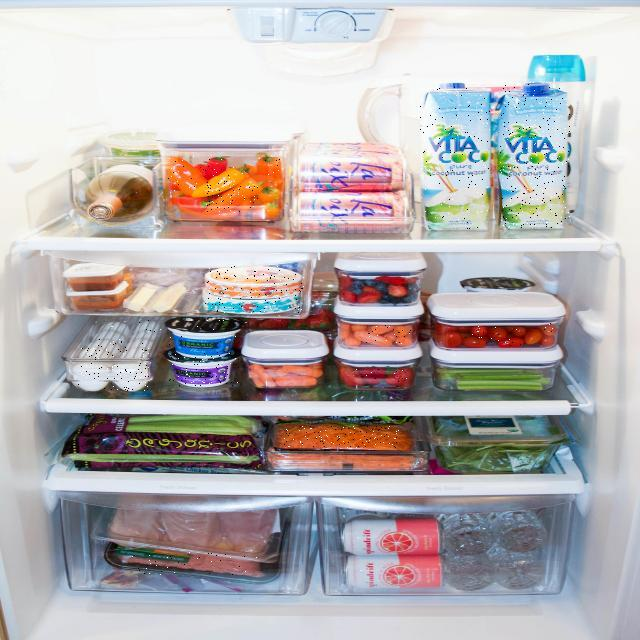carrots: (284, 426, 400, 448)
cheese: (206, 266, 305, 296), (202, 294, 304, 313)
eggs: (112, 363, 150, 391), (73, 362, 109, 390), (79, 347, 115, 360), (89, 339, 122, 352), (103, 323, 130, 334), (123, 347, 149, 358), (140, 320, 162, 332), (130, 339, 153, 346)
ground_beef: (127, 552, 259, 575)
milk: (500, 82, 570, 228), (420, 85, 490, 229)
sausage: (352, 333, 389, 347), (368, 324, 392, 334), (392, 326, 413, 337), (394, 338, 410, 345)
strawberries: (386, 367, 411, 387), (360, 367, 384, 384), (341, 368, 361, 386)
tomato: (440, 332, 463, 346), (521, 332, 544, 344), (491, 327, 506, 341), (464, 337, 484, 347), (498, 338, 522, 346), (542, 323, 556, 336), (512, 327, 528, 336), (472, 326, 486, 336)
yellow bell pepper: (205, 181, 258, 216), (193, 168, 245, 195), (168, 155, 203, 192), (258, 158, 283, 178), (202, 158, 228, 176)
yoghurt: (165, 319, 242, 357), (169, 352, 239, 386)
